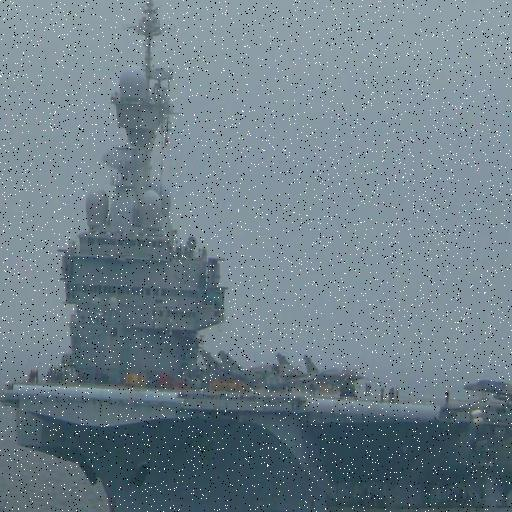Portanaves: (1, 1, 512, 512)
